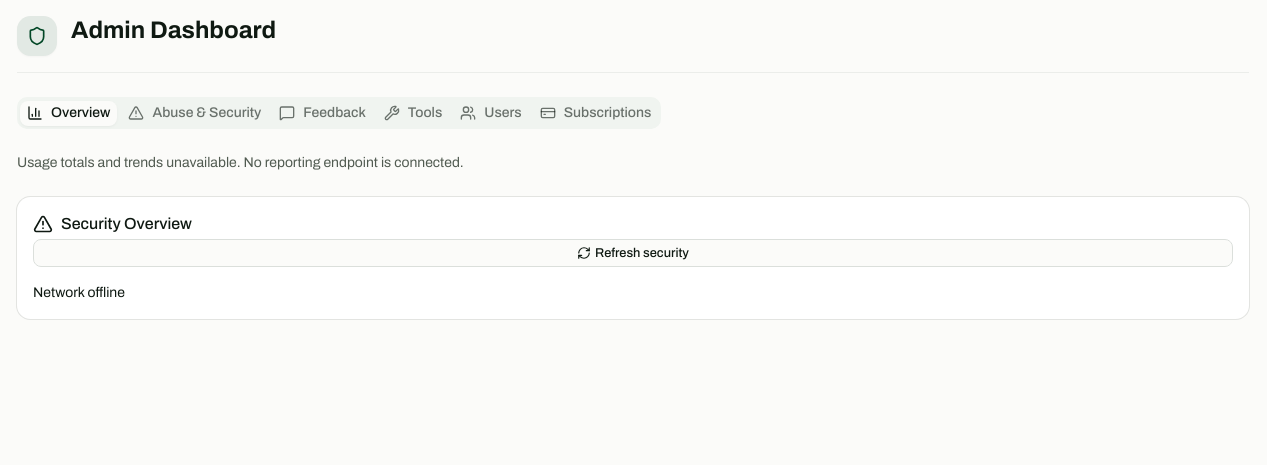
Scenario: truthful admin dashboard › reports network errors and retries real security data
Expected: the message reads "Network offline", [33,285,125,300]
What coordinates should you click on to do the following:
click the button "Refresh security"
I would click on:
 (633, 253)
Its box is [33,239,1233,267].
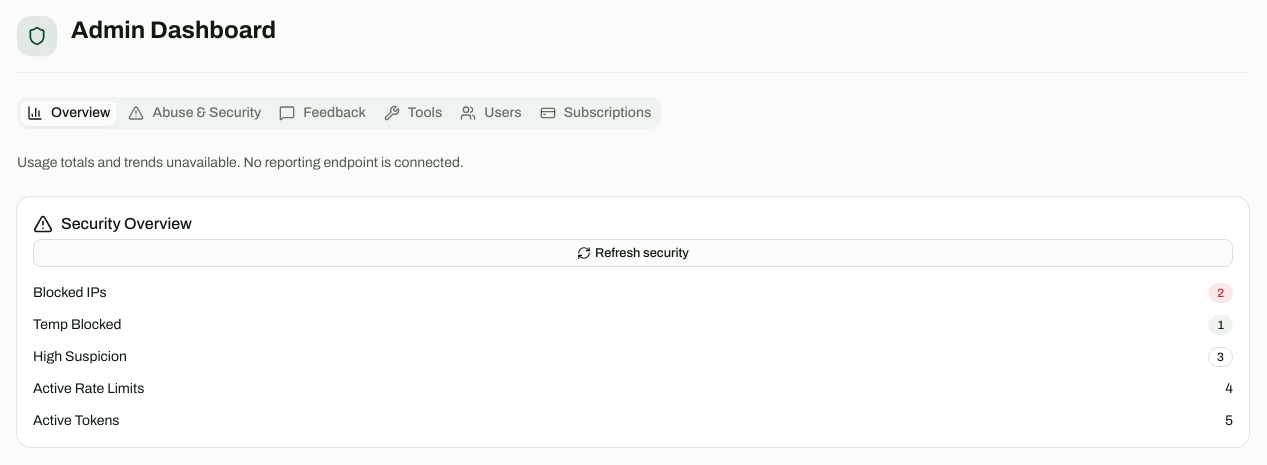
Result: the text "Active Tokens" is shown at [33,411,120,431]
Result: the message "Network offline" is gone
